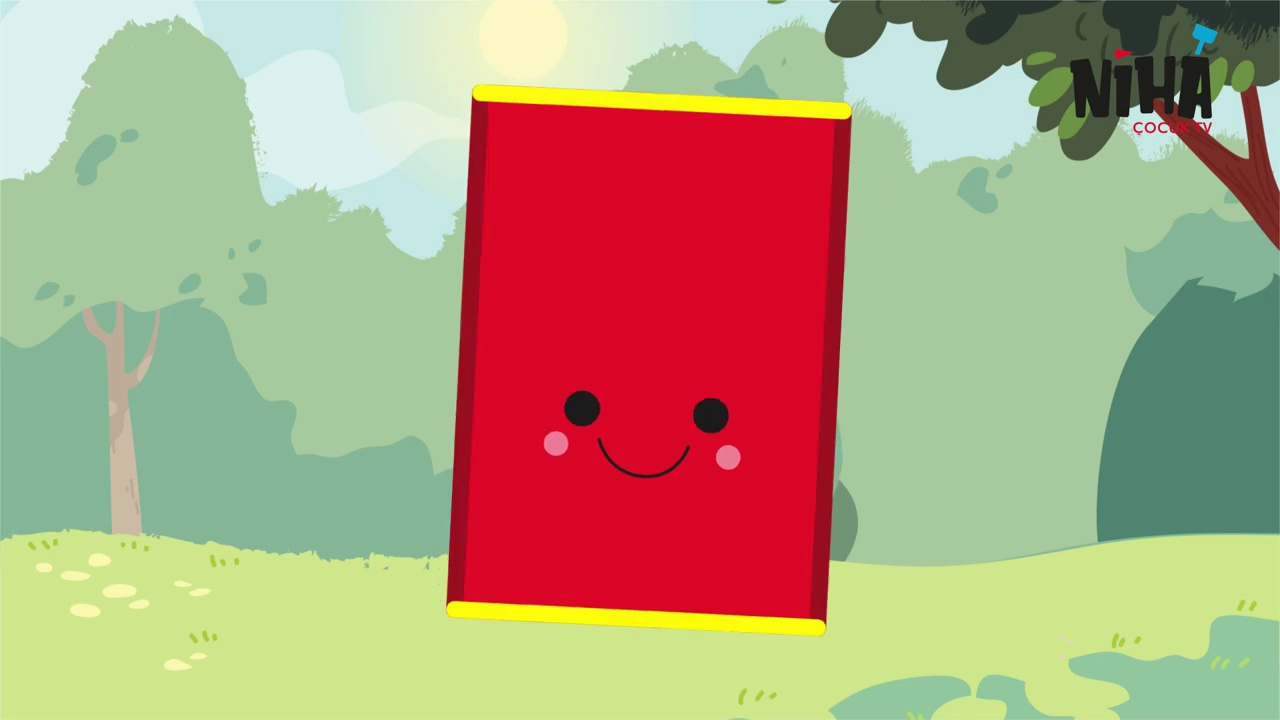dikdortgen: (434, 85, 862, 643)
